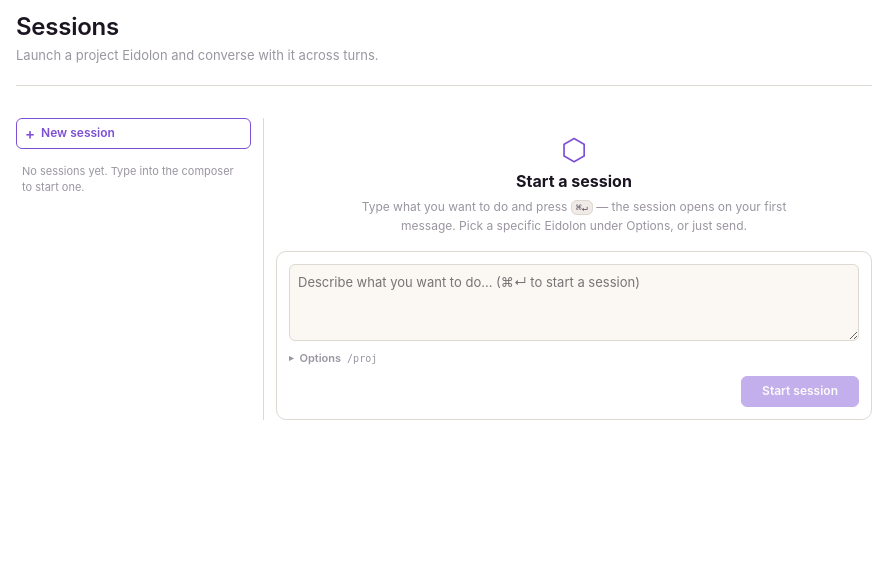
Scenario: SessionsRoute › S4: the Eidolon picker defaults to the Cortex option
This screenshot has width=889, height=576.
Note: Open the optional disclosure to reveal the picker.
Click the button with aria-label "Toggle session options". click: (320, 358)
box: 289,349 -> 859,368
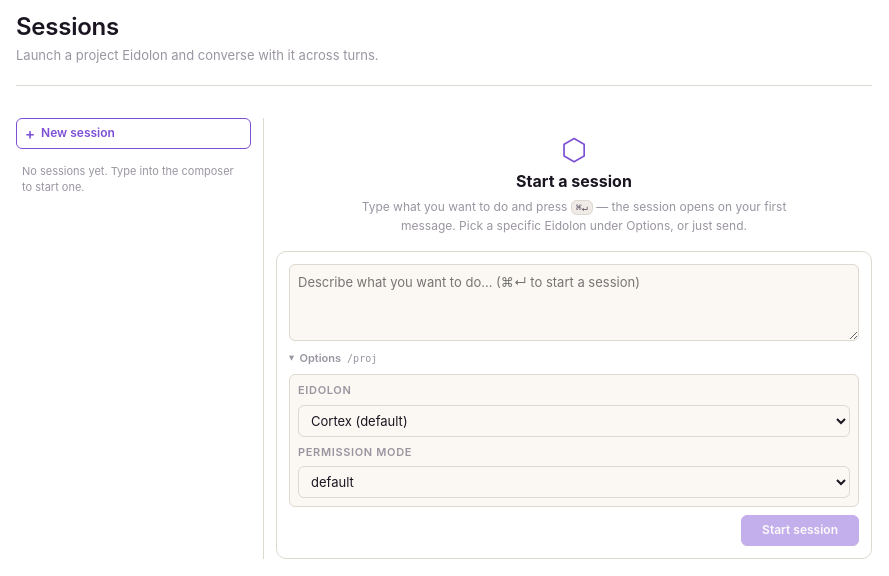
Result: the dropdown named "Select an Eidolon to launch" shows "Cortex (default)" at 298,405 -> 850,437
